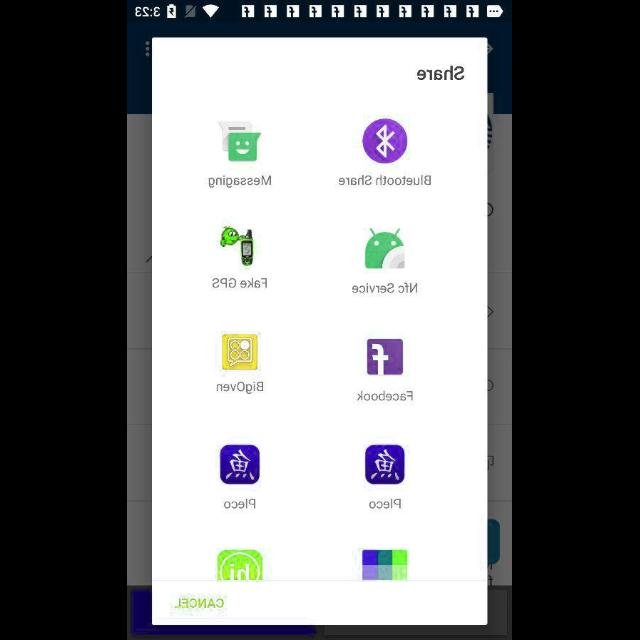icon: (362, 120, 408, 164), (368, 339, 404, 375)
image: (219, 122, 261, 162), (220, 446, 260, 484), (366, 229, 404, 269), (366, 446, 404, 484), (221, 227, 255, 267), (218, 550, 262, 580), (363, 550, 407, 580), (222, 334, 258, 370)
panel: (152, 38, 488, 624)
text: (339, 175, 431, 185), (209, 176, 271, 188), (352, 283, 418, 293), (418, 66, 464, 80), (216, 382, 264, 394), (358, 391, 414, 401), (213, 278, 267, 288), (176, 598, 224, 608), (224, 499, 256, 508), (370, 499, 402, 508)
uppertaskbar: (128, 1, 512, 23)
